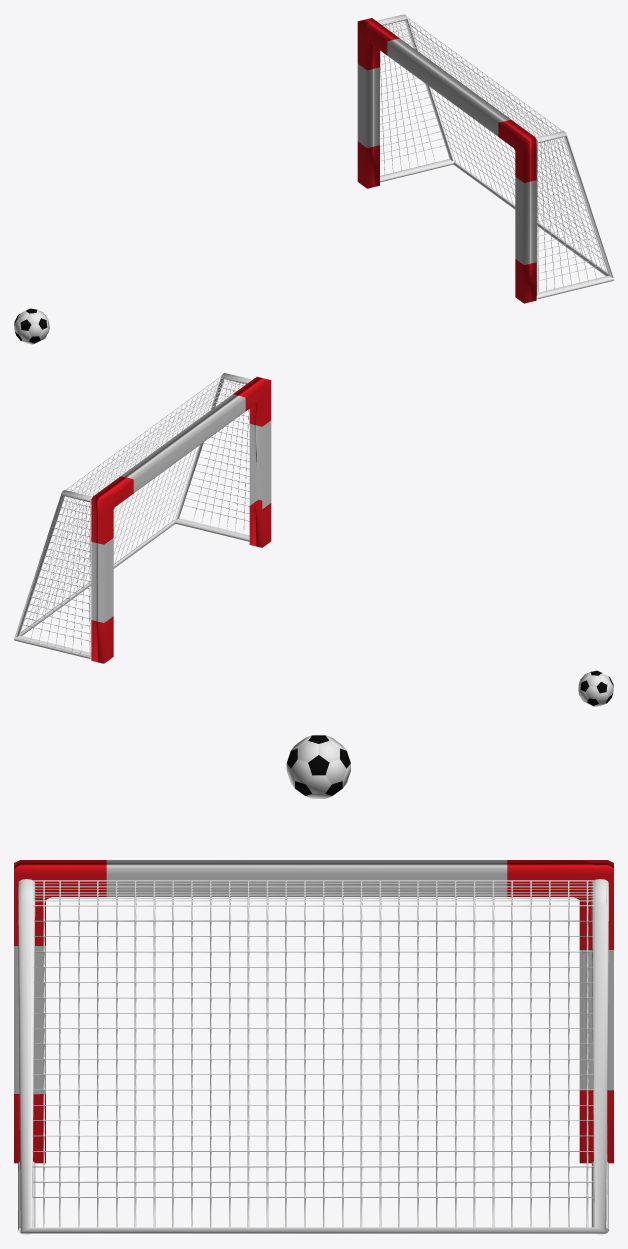
File: penalty.fbx
The picture shows the model from 3 angles, top to bottom: view 1: azimuth 30°, elevation 25°; view 2: azimuth 150°, elevation 25°; view 3: azimuth 270°, elevation 25°; orthographic projection. The views are drawn at different scales.
Visible parts, largest first — view 1: GoalPost, GoalNet, GoalSupportBars, LeftGoal; view 2: GoalPost, GoalNet, GoalSupportBars, LeftGoal; view 3: GoalNet, GoalPost, GoalSupportBars, LeftGoal.
Boxes of the visible parts, x1,y1,x2,y2 form: GoalPost: (357, 18, 536, 303); GoalNet: (377, 14, 606, 295); GoalSupportBars: (377, 14, 613, 299); LeftGoal: (14, 308, 49, 344); GoalPost: (91, 376, 271, 663); GoalNet: (14, 375, 249, 656); GoalSupportBars: (14, 373, 252, 659); LeftGoal: (578, 670, 613, 706); GoalNet: (32, 880, 607, 1228); GoalPost: (14, 860, 613, 1163); GoalSupportBars: (18, 879, 608, 1234); LeftGoal: (286, 735, 350, 798).
Size of what is drawn, in the model's own units: 586 by 178 by 328.
